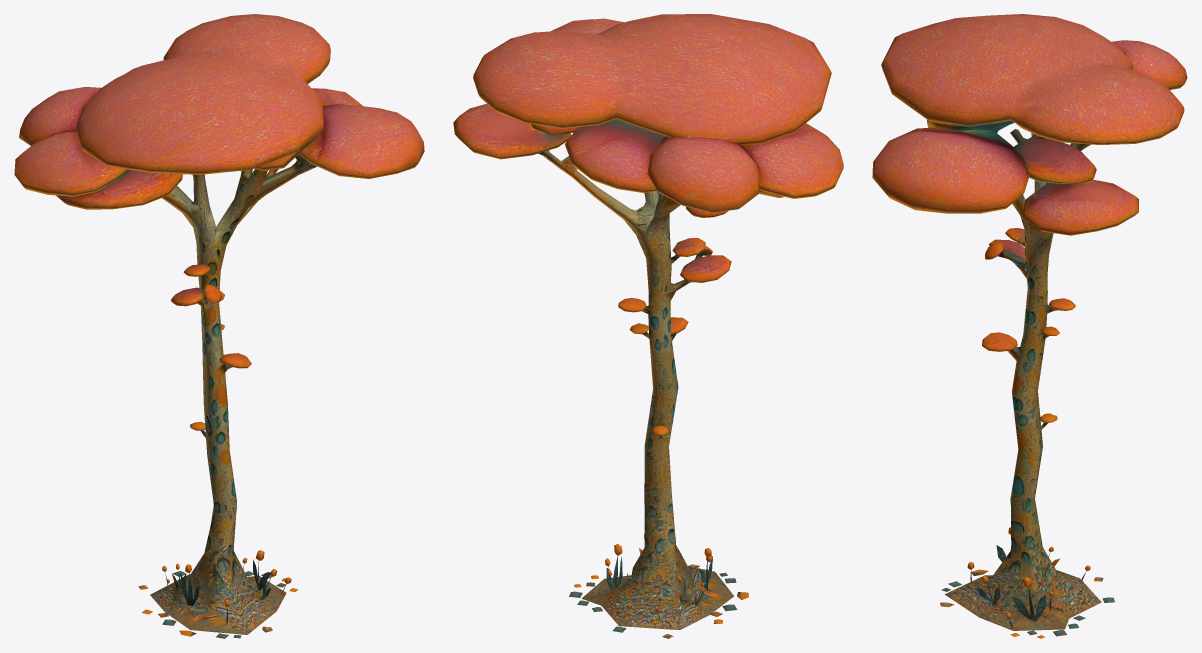
Rendered from alien_tree_02.glb.
3 views of the same model, side by side, from view 1: azimuth 30°, elevation 25°; view 2: azimuth 150°, elevation 25°; view 3: azimuth 270°, elevation 25° (orthographic). The views are drawn at different scales.
Parts seen in each view (by area): view 1: tripo_node_3c3a44b5-1264-4310-9fbe-292c77628ccf; view 2: tripo_node_3c3a44b5-1264-4310-9fbe-292c77628ccf; view 3: tripo_node_3c3a44b5-1264-4310-9fbe-292c77628ccf.
Part boxes in pixels (bbox=[...]): tripo_node_3c3a44b5-1264-4310-9fbe-292c77628ccf: bbox=[14, 14, 424, 638]; tripo_node_3c3a44b5-1264-4310-9fbe-292c77628ccf: bbox=[453, 14, 843, 638]; tripo_node_3c3a44b5-1264-4310-9fbe-292c77628ccf: bbox=[872, 14, 1187, 638].
Bounding box in the file's own units: 0.6734 × 0.9995 × 0.5122.
1 material, 1 textured.
